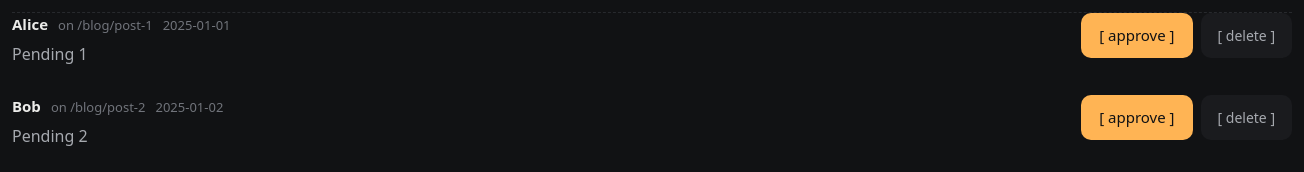
Test: ModerationClient › deletes a comment and removes it from the list
Click the button "[ delete ]" in the row of "Alice" at point(1246, 35), box [1200,13,1292,58]
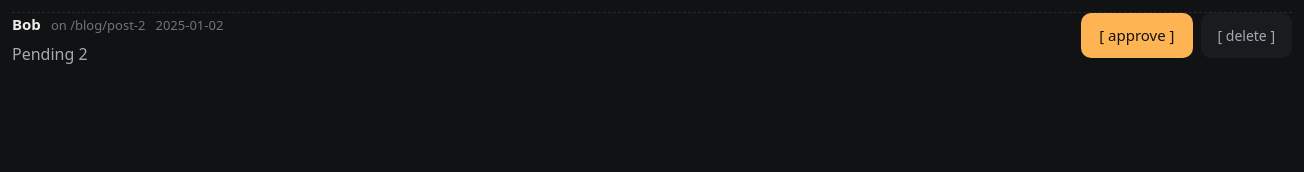
Result: the text "Pending 1" is gone
